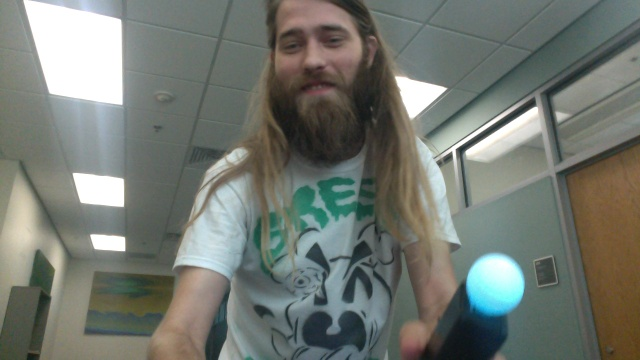wand: (467, 254, 524, 317)
